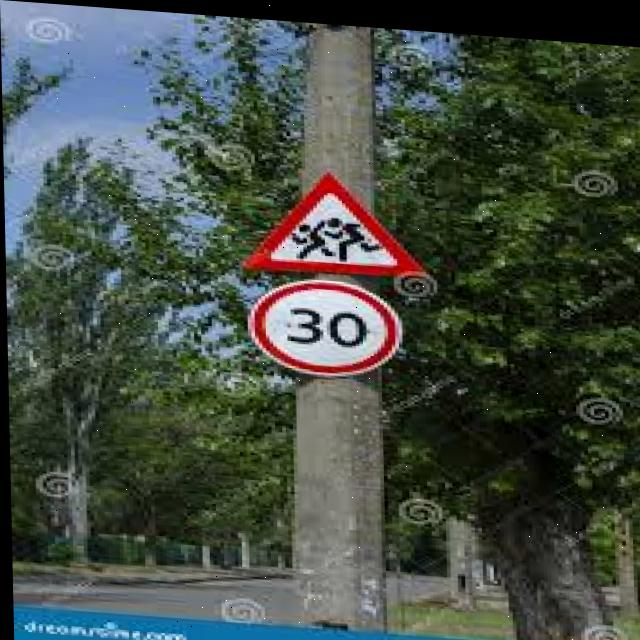Speed limit 30: (243, 269, 403, 378)
